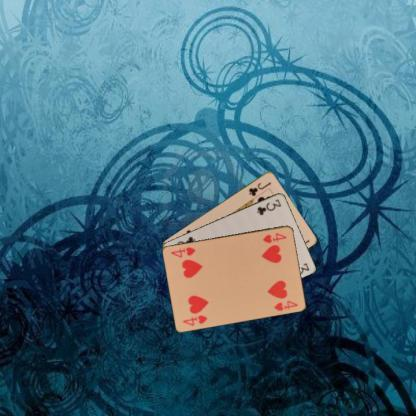3c: (254, 197, 283, 216)
4h: (180, 312, 209, 327), (260, 230, 288, 244)
Jc: (246, 179, 272, 197)
